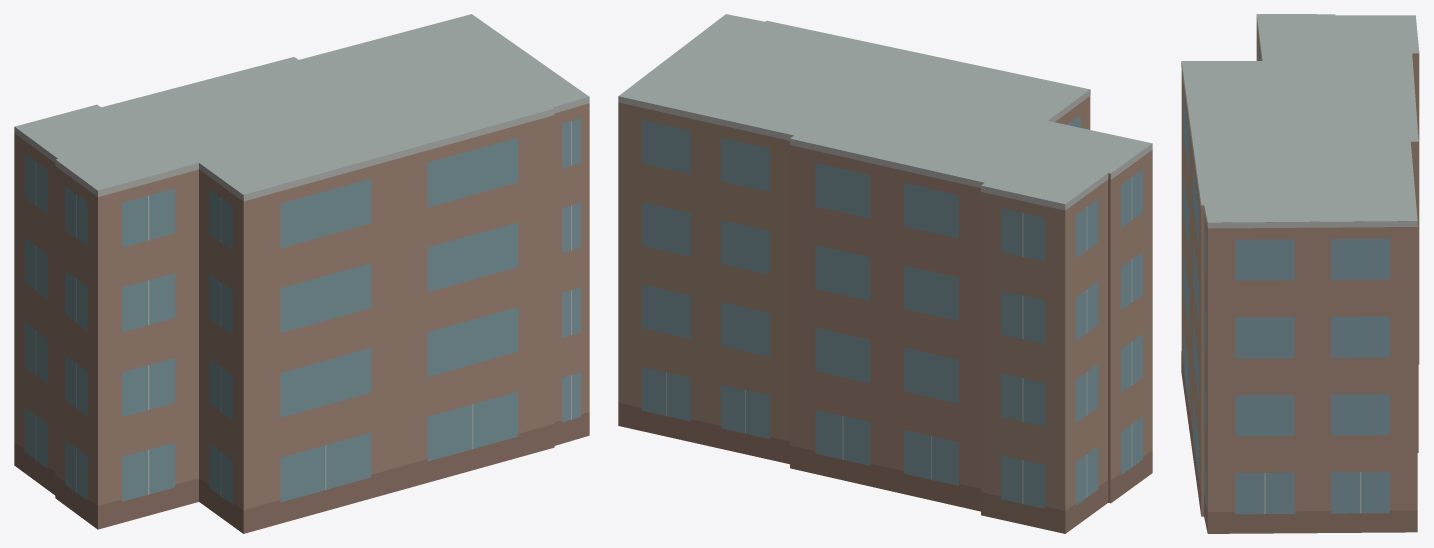
Rendered from survey-upis-32665211.glb.
3 renders of one model, left to right at view 1: azimuth 30°, elevation 25°; view 2: azimuth 150°, elevation 25°; view 3: azimuth 270°, elevation 25°, orthographic. The views are drawn at different scales.
Visible parts, largest first — view 1: survey-upis-32665211.tmp; view 2: survey-upis-32665211.tmp; view 3: survey-upis-32665211.tmp.
Boxes of the visible parts, box(x1,y1,x2,y2) form: survey-upis-32665211.tmp: box(14, 14, 589, 533); survey-upis-32665211.tmp: box(618, 14, 1152, 533); survey-upis-32665211.tmp: box(1181, 14, 1419, 533).
Size of the model in its own units: 18.4 by 12.8 by 8.88.
